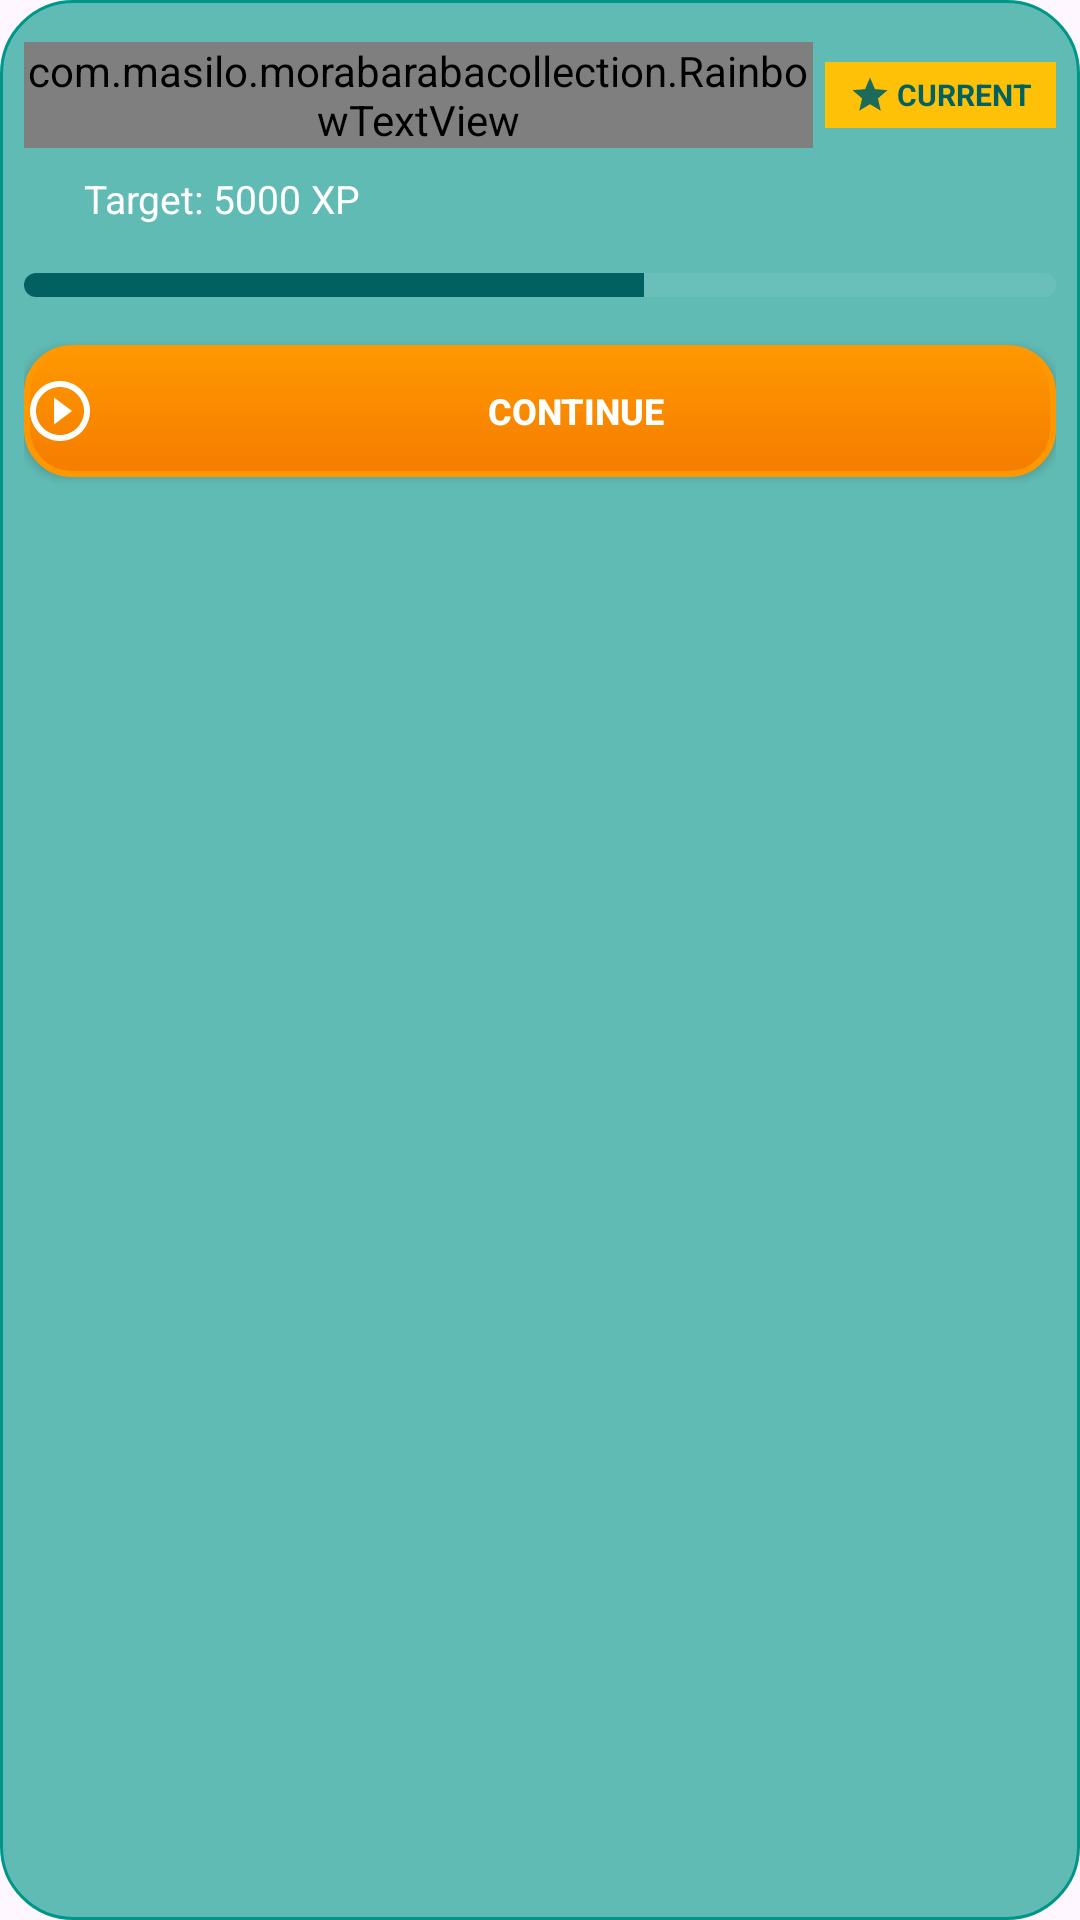

Screen size 1080*1920. Icon name, then its box in pixels as (x1, y1, x2, y2):
star: (853, 78, 887, 111)
